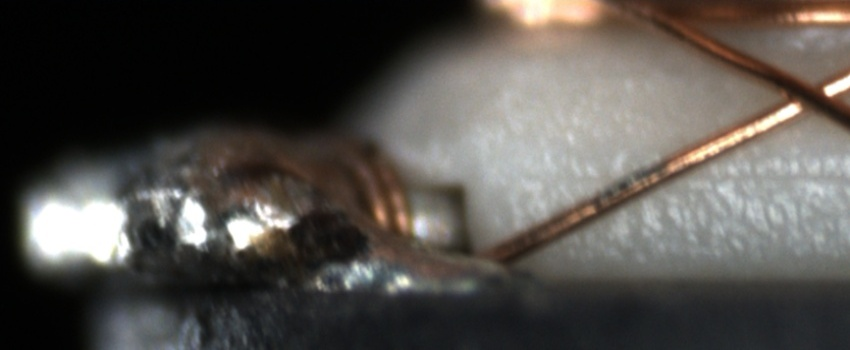CL: (754, 61, 847, 130)
DL: (526, 145, 850, 209)
TE: (339, 135, 413, 242)
